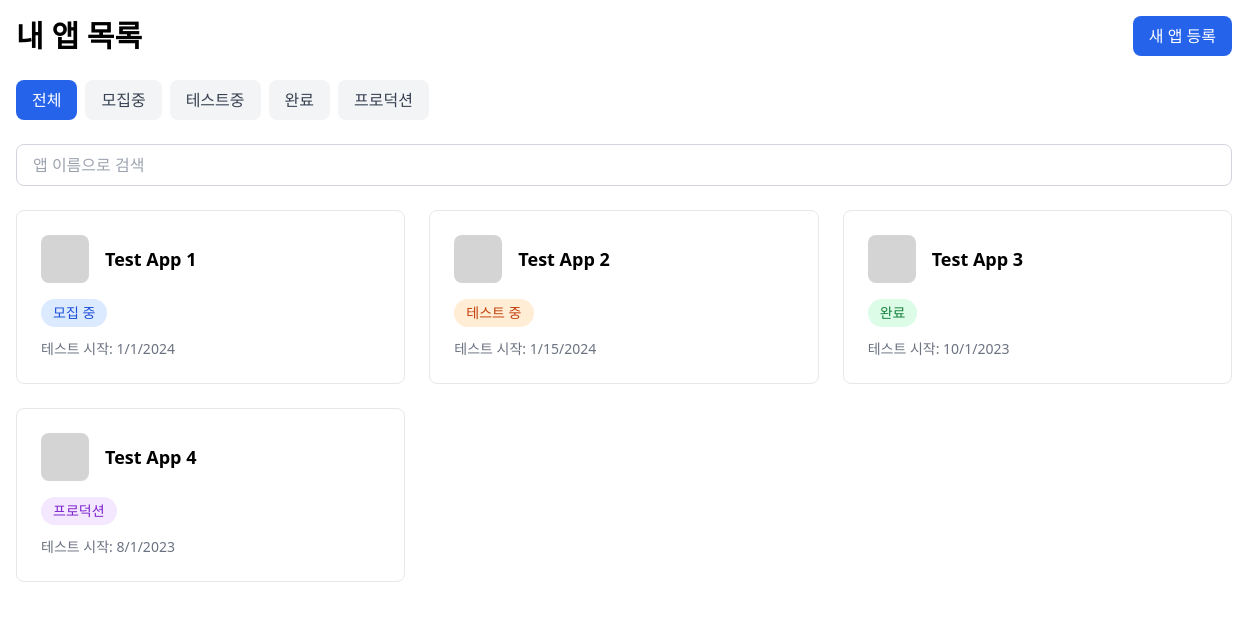
Test case: P3-S8: Developer Apps List › 🔴 RED: Status Filter Tabs › should show all apps when "전체" tab clicked after filtering
The image size is (1249, 643).
Expected: the heading "Test App 1" is shown, [105, 247, 196, 271]
# Filter to RECRUITING
Click the button "모집중". click: (124, 100)
box: [86, 80, 162, 120]
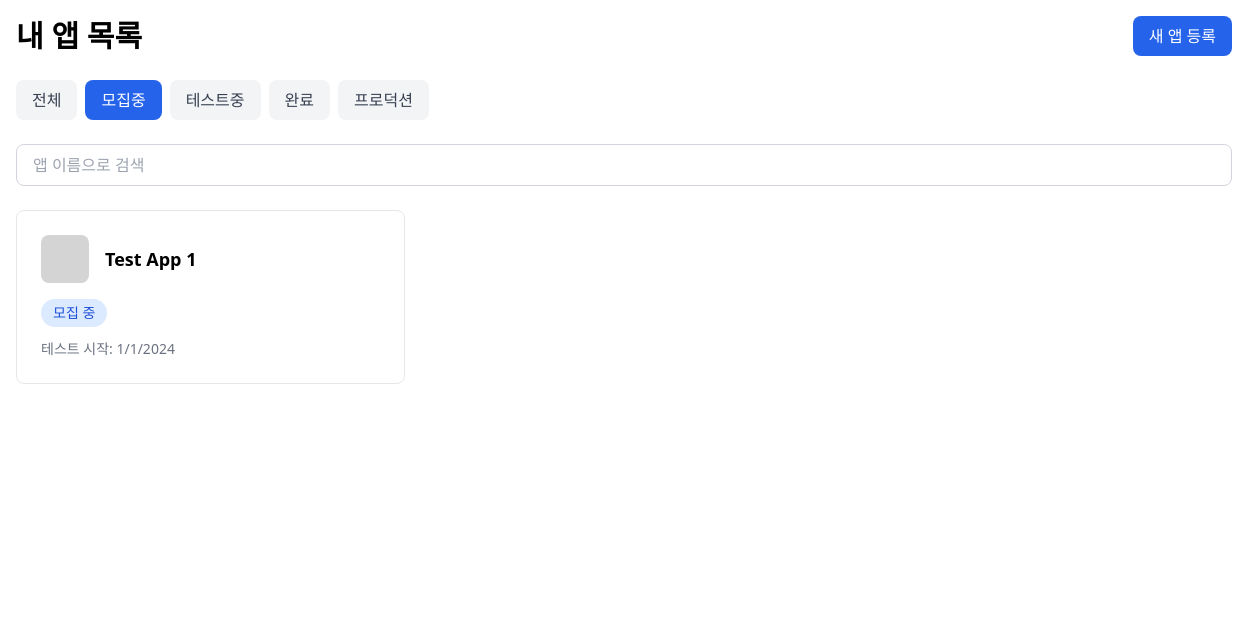
Expected: the heading "Test App 2" is gone
# Click "전체"
Click the button "전체". click: (47, 100)
box: [16, 80, 78, 120]
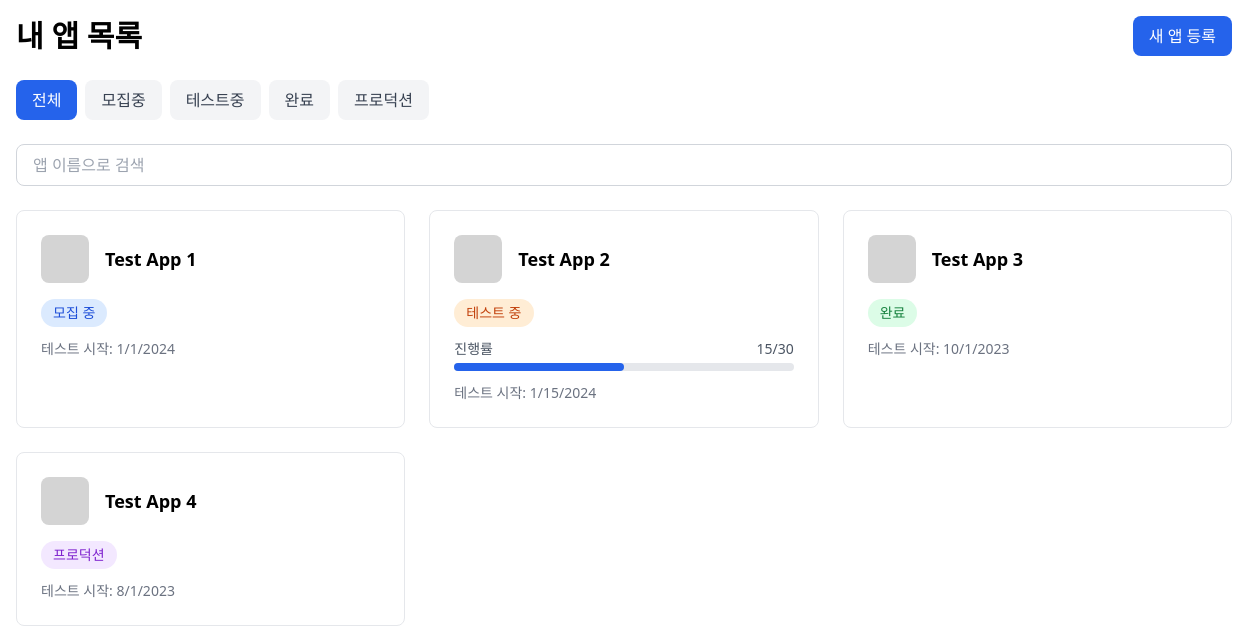
Expected: the heading "Test App 2" is shown, [518, 247, 610, 271]
Expected: the heading "Test App 3" is shown, [932, 247, 1023, 271]
Expected: the heading "Test App 4" is shown, [105, 489, 196, 513]
